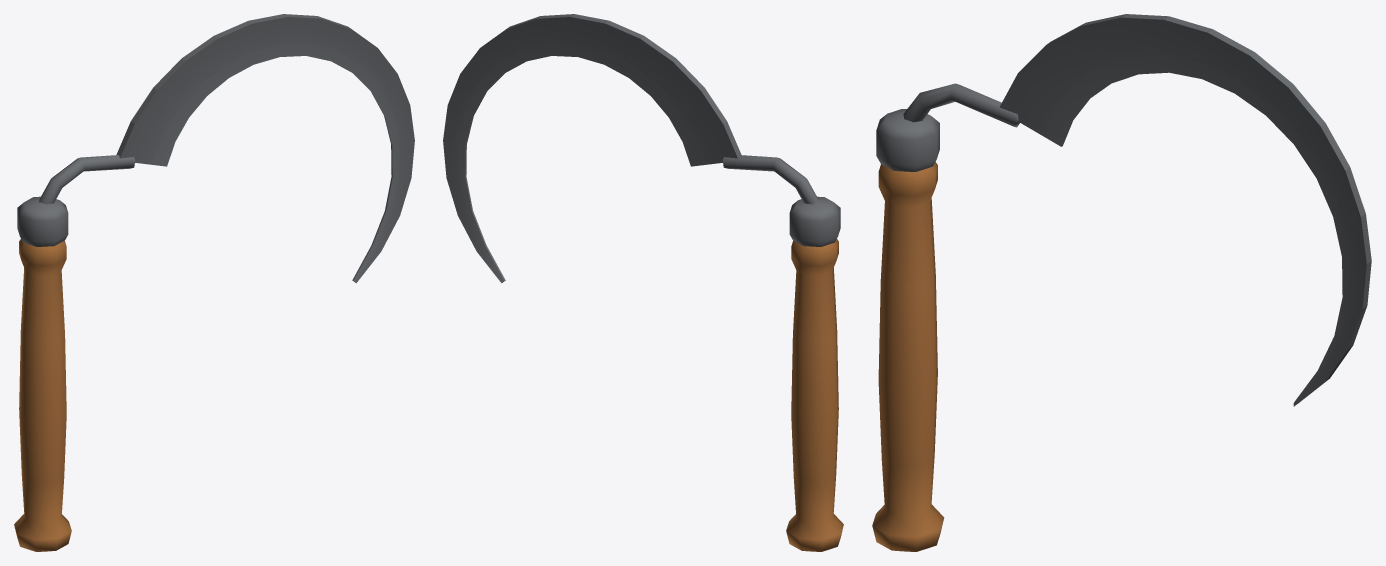
The model's file is tool_sickle_a.glb.
The picture shows the model from 3 angles, left to right: view 1: azimuth 30°, elevation 25°; view 2: azimuth 150°, elevation 25°; view 3: azimuth 330°, elevation 25°; orthographic projection. The views are drawn at different scales.
Visible parts, largest first — view 1: tool_sickle_a_mesh; view 2: tool_sickle_a_mesh; view 3: tool_sickle_a_mesh.
Boxes of the visible parts, bbox=[...] form: tool_sickle_a_mesh: bbox=[14, 14, 414, 551]; tool_sickle_a_mesh: bbox=[443, 14, 843, 551]; tool_sickle_a_mesh: bbox=[872, 14, 1371, 551].
Bounding box in the file's own units: 0.519 × 0.5994 × 0.068.
